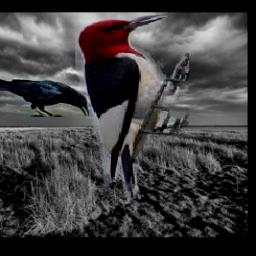Crow: (0, 77, 90, 117)
Woodpecker: (76, 12, 190, 199)
